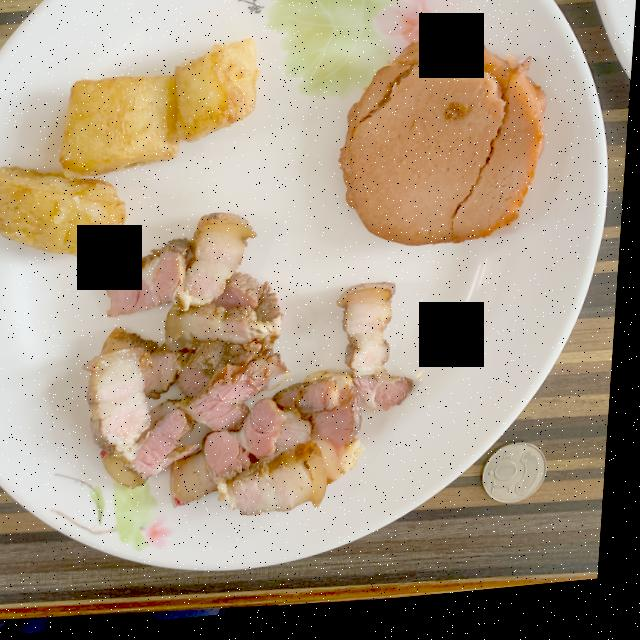Spam: (342, 46, 549, 255)
coin: (490, 453, 554, 514)
fried potato: (0, 43, 261, 259)
grilled pork: (89, 218, 420, 521)
